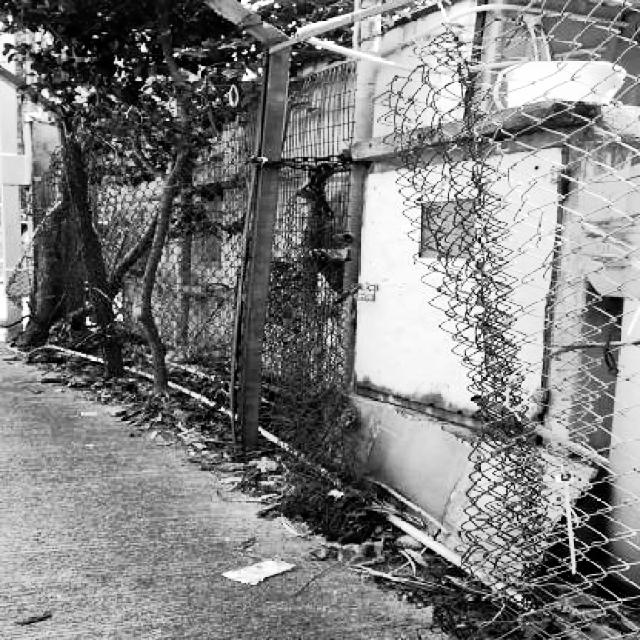anomaly-fence: (236, 12, 566, 595)
